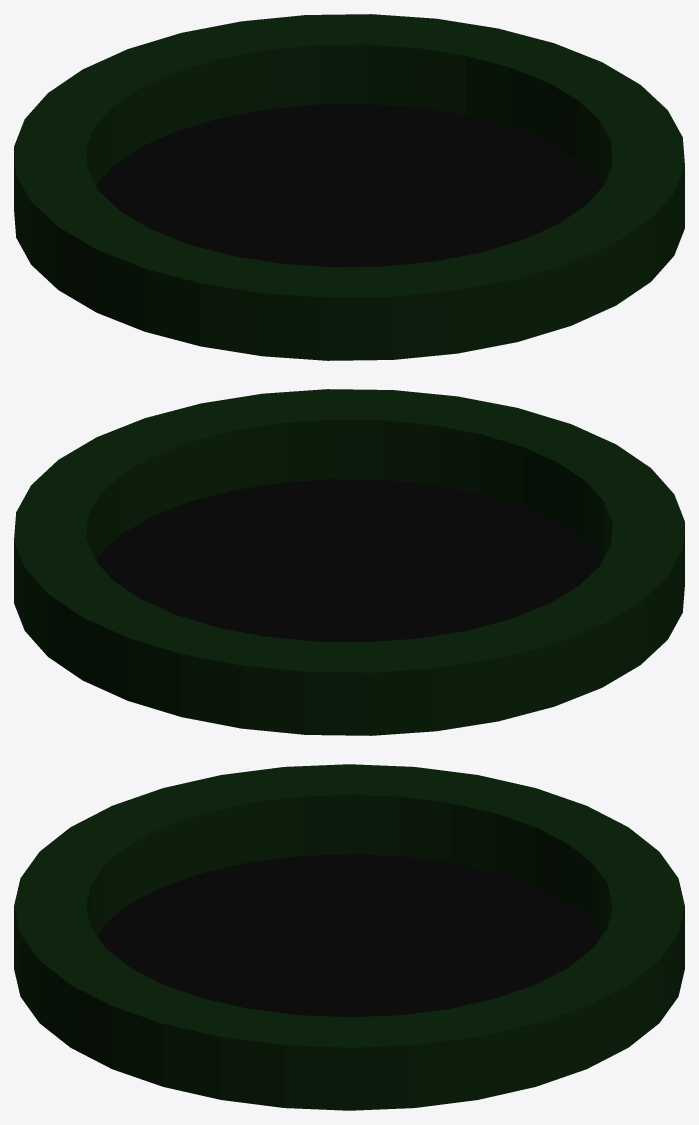
File: tinker.obj
3 views of the same model, one above another, from view 1: azimuth 30°, elevation 25°; view 2: azimuth 150°, elevation 25°; view 3: azimuth 270°, elevation 25° (orthographic).
Visible parts, largest first — view 1: hole_1_Cylinder_hole_green, hole_1_Cylinder_holeIn; view 2: hole_1_Cylinder_hole_green, hole_1_Cylinder_holeIn; view 3: hole_1_Cylinder_hole_green, hole_1_Cylinder_holeIn.
Boxes of the visible parts, bbox=[...] form: hole_1_Cylinder_hole_green: bbox=[14, 14, 684, 360]; hole_1_Cylinder_holeIn: bbox=[96, 104, 602, 267]; hole_1_Cylinder_hole_green: bbox=[14, 389, 684, 735]; hole_1_Cylinder_holeIn: bbox=[96, 479, 602, 642]; hole_1_Cylinder_hole_green: bbox=[14, 764, 684, 1110]; hole_1_Cylinder_holeIn: bbox=[97, 854, 601, 1017].
Bounding box in the file's own units: 2 × 0.2072 × 2.
